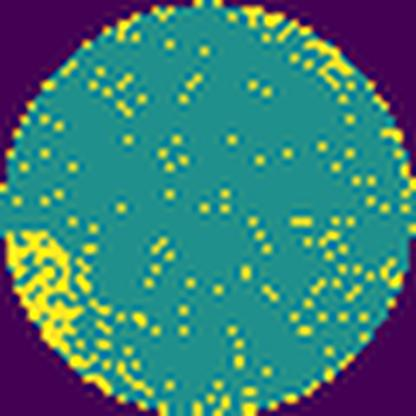Edge-Loc: (0, 224, 112, 408)
